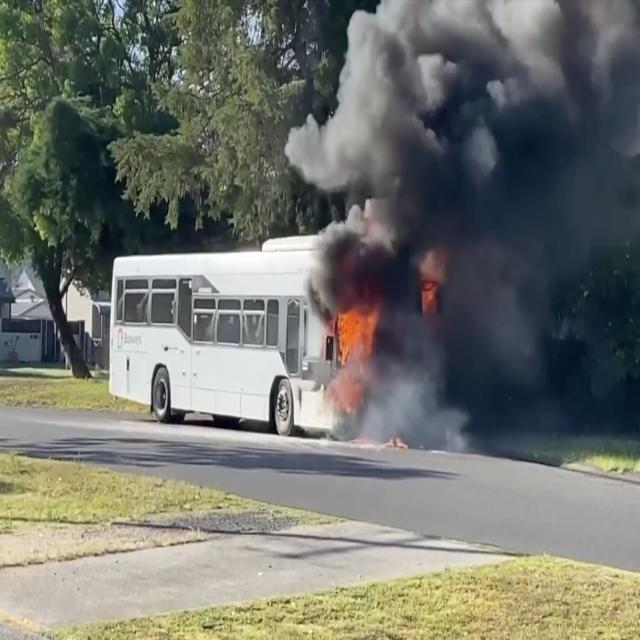Fire: (336, 306, 380, 368)
Smoke: (284, 0, 639, 466)
